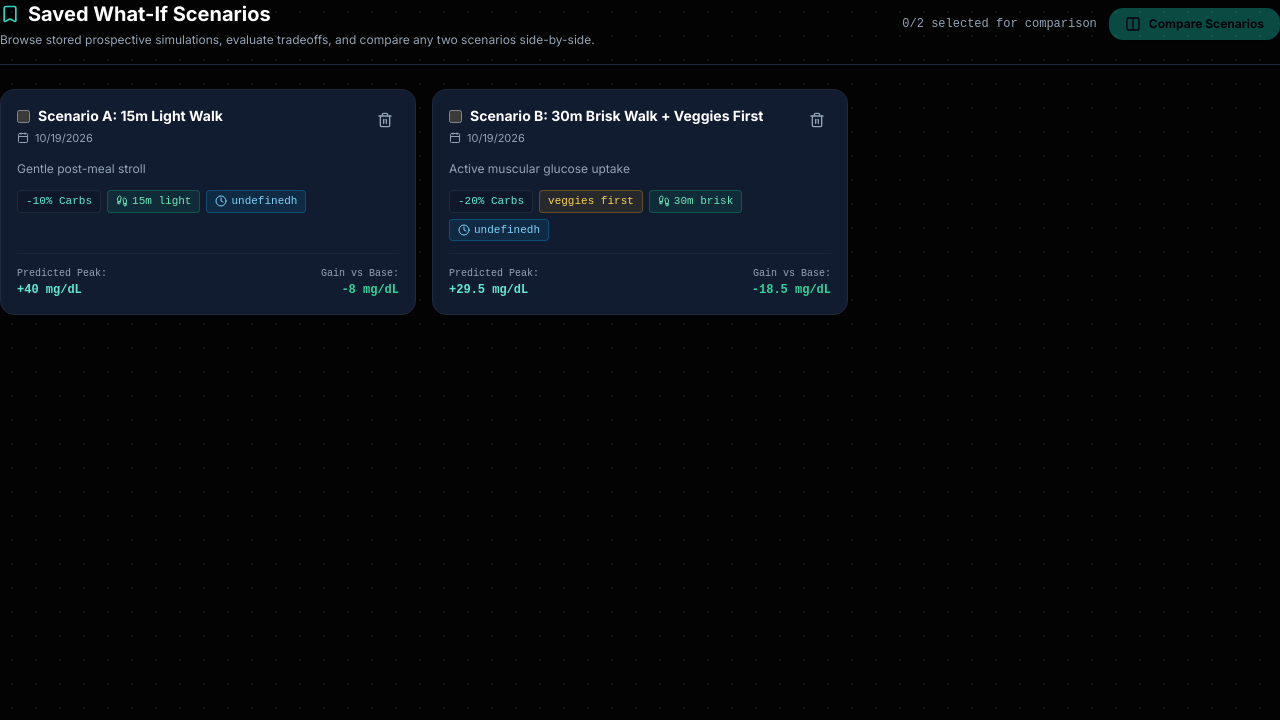
Scenario: Simulation Lab Extended Tests › renders SavedScenariosTab, compares two scenarios and deletes scenario
Expected: the heading "Scenario B: 30m Brisk Walk + Veggies First" is shown, [470,106,764,126]
Note: Select both scenarios for comparison
Click the heading "Scenario A: 15m Light Walk" at (130, 116), box [38,106,223,126]
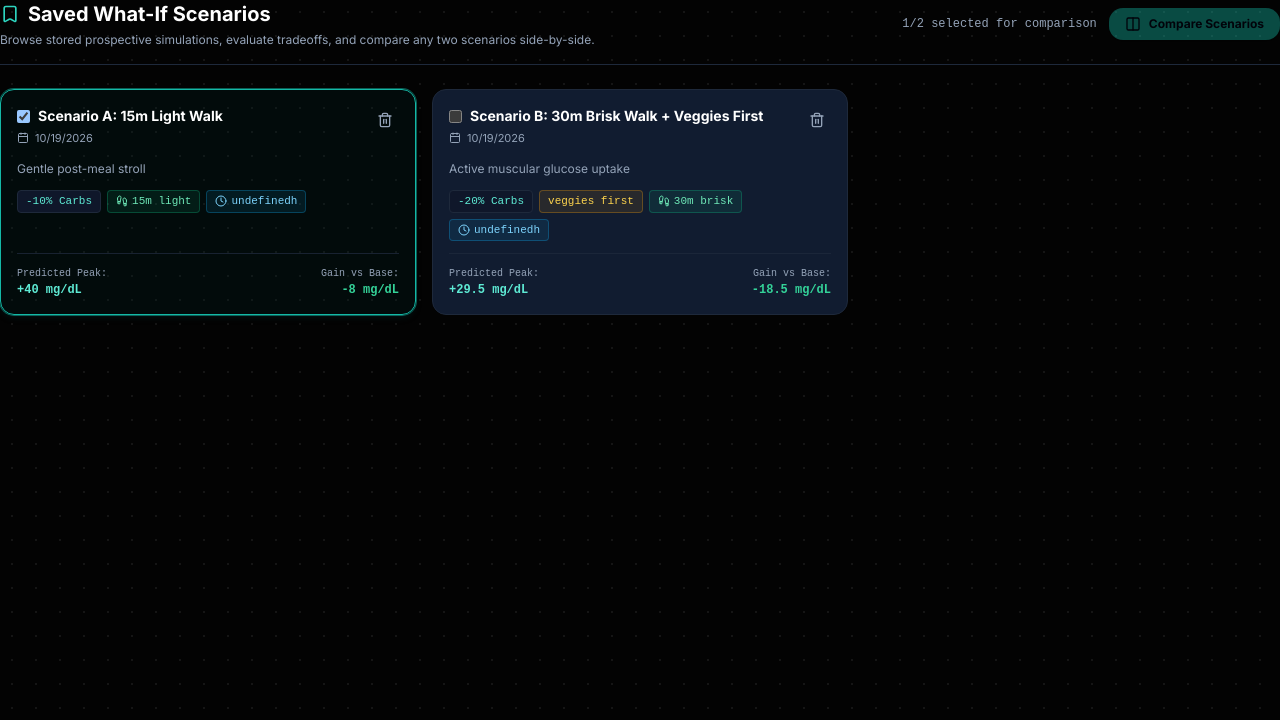
Click the heading "Scenario B: 30m Brisk Walk + Veggies First" at (617, 116), box [470,106,764,126]
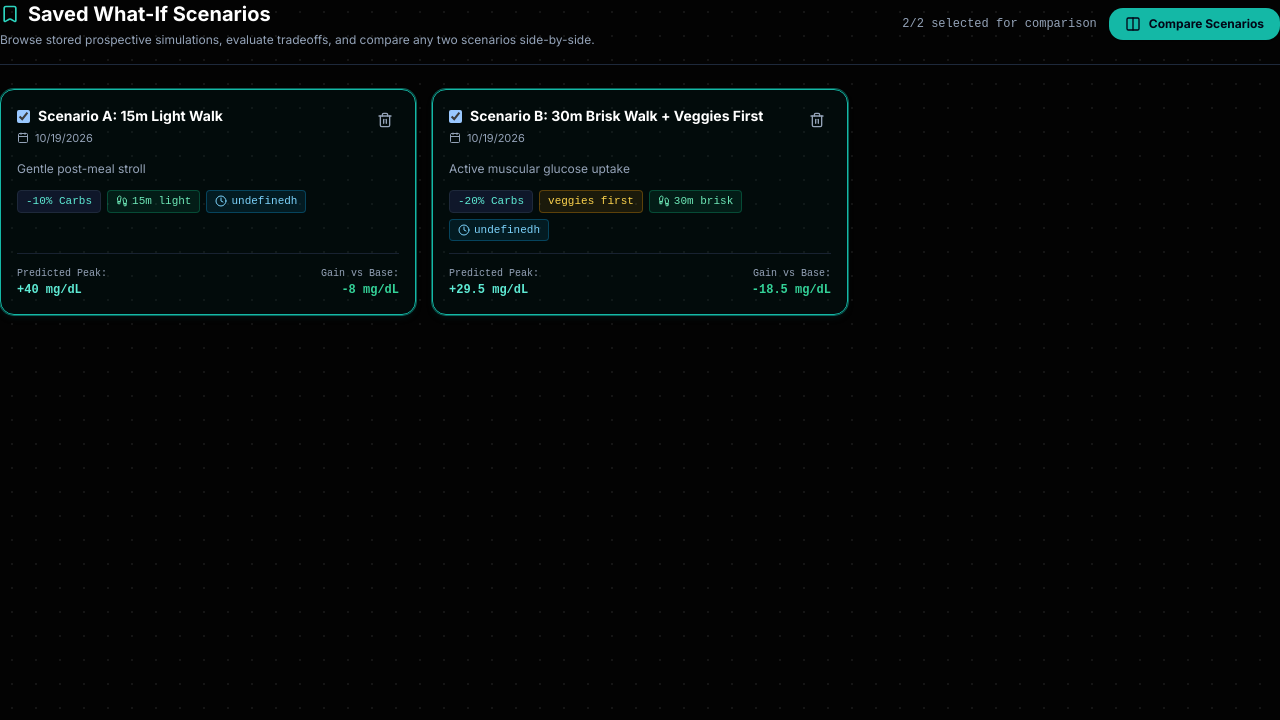
Result: the button "Compare Scenarios" is enabled
Click the button "Compare Scenarios" at (1194, 24), box [1109,8,1279,40]
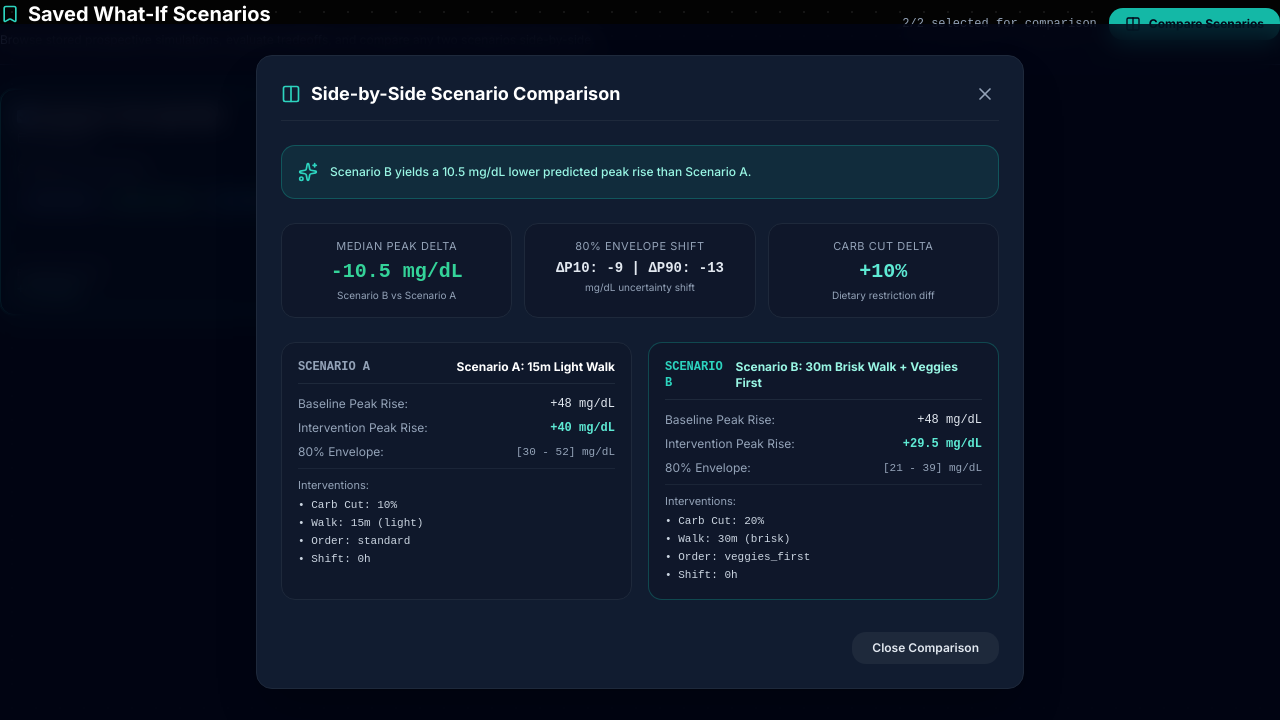
Result: the heading "Side-by-Side Scenario Comparison" is shown at [311,80,620,108]
Result: the text "Scenario B yields a 10.5 mg/dL lower predicted peak rise than Scenario A." is shown at [330,162,752,182]
Result: the text "-10.5 mg/dL" is shown at [331,260,463,283]
